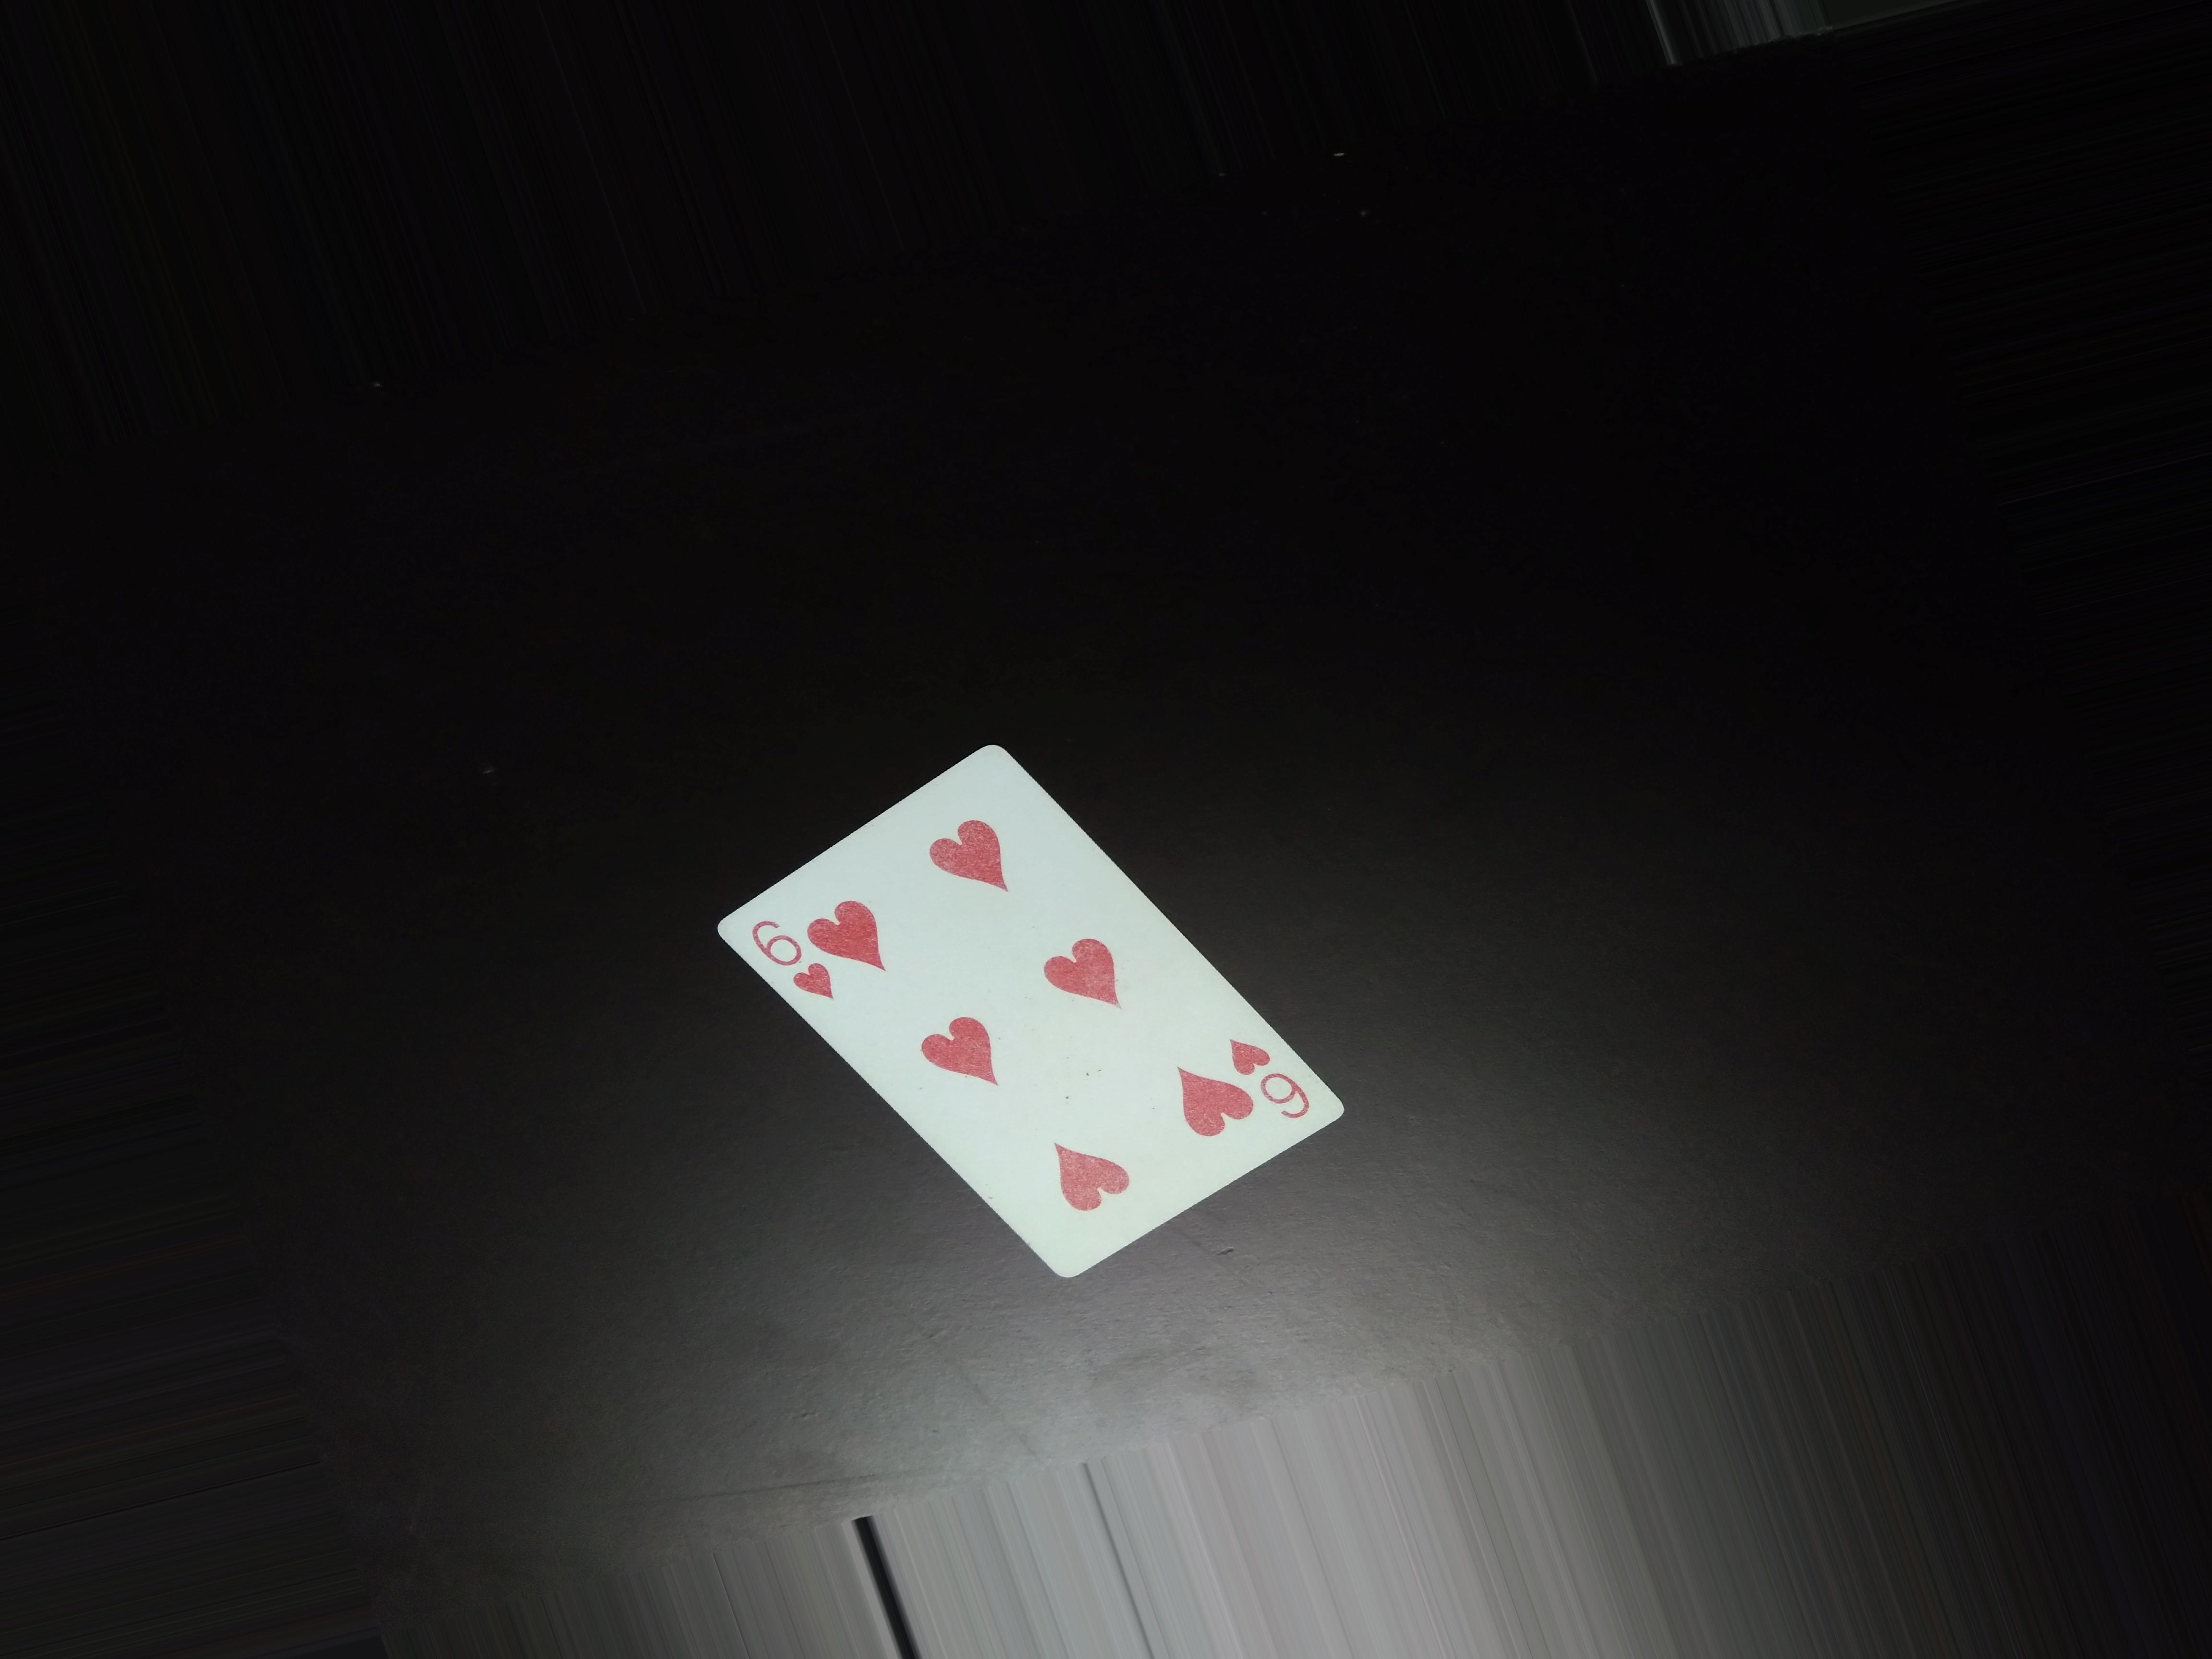6H: (1231, 1012, 1312, 1138)
